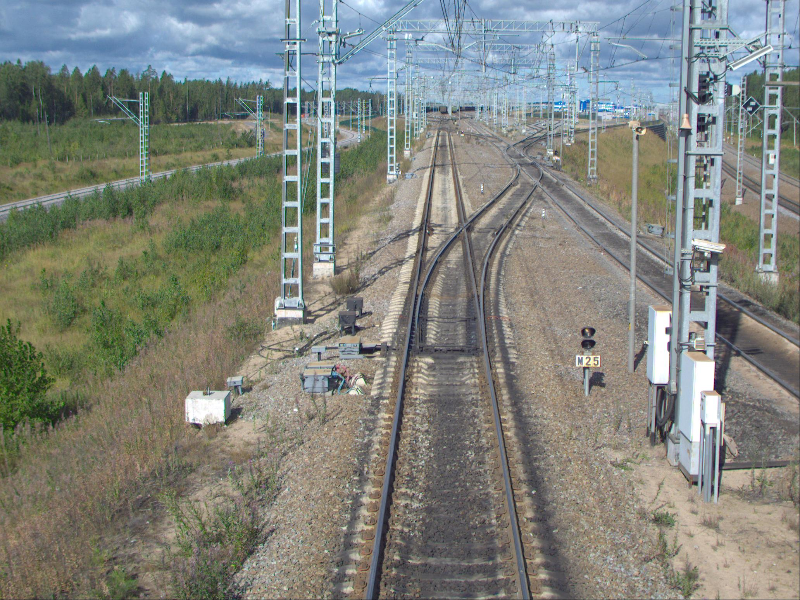railway_arrows: (409, 219, 490, 340)
